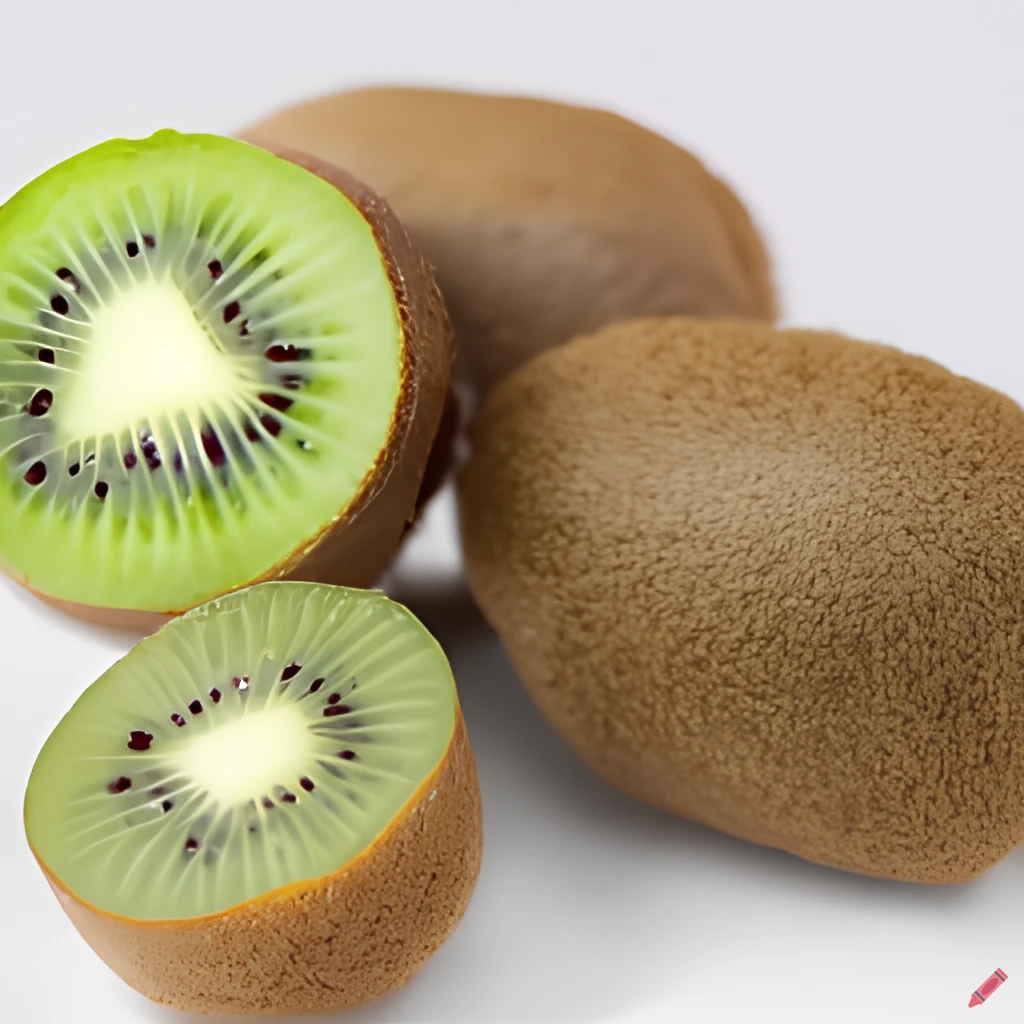Kiwi: (431, 232, 1018, 924), (4, 573, 490, 992), (211, 43, 788, 392)
